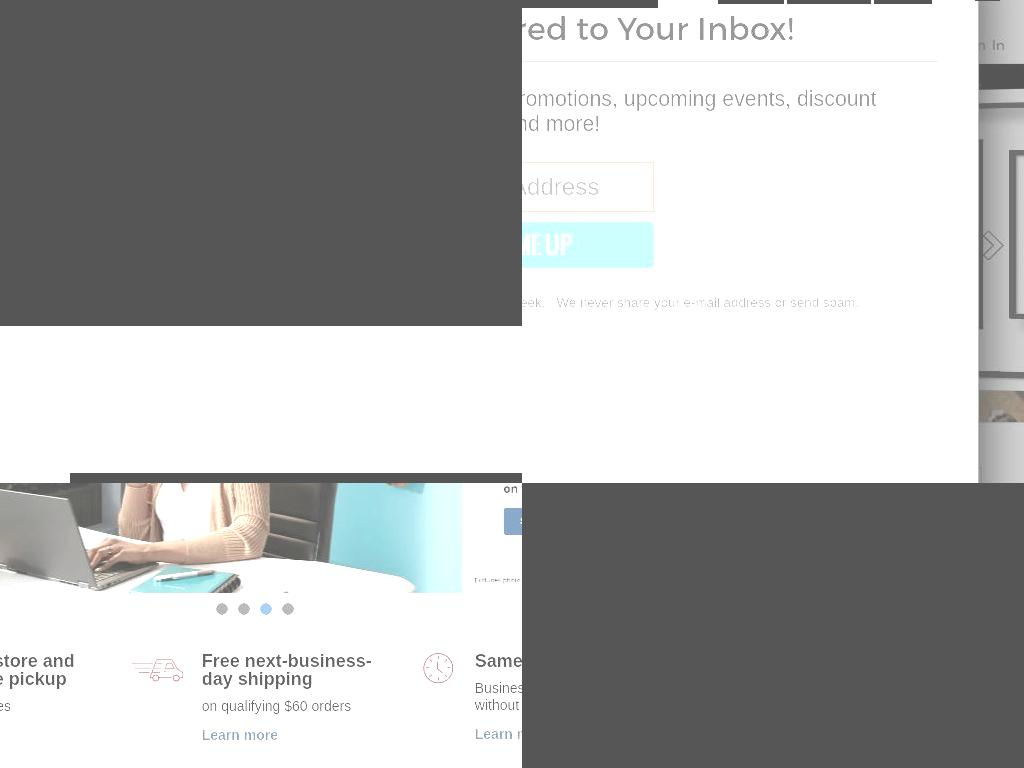button: (522, 64, 1024, 423), (522, 483, 1024, 768), (0, 483, 522, 594), (419, 243, 522, 291), (776, 29, 885, 65), (540, 29, 642, 65), (942, 29, 1005, 65), (201, 721, 278, 750), (885, 29, 942, 65), (871, 467, 982, 483), (601, 467, 694, 483), (702, 467, 789, 483), (474, 720, 522, 749), (522, 467, 593, 483), (797, 467, 863, 483), (522, 29, 540, 65), (216, 603, 228, 615), (238, 603, 250, 615), (260, 603, 272, 615), (282, 603, 294, 615)
field: (427, 145, 522, 197)
image: (0, 0, 522, 326), (0, 483, 522, 594), (522, 361, 738, 483), (522, 363, 734, 483), (809, 152, 948, 302), (811, 151, 949, 301), (522, 150, 639, 311), (561, 0, 756, 95), (522, 149, 633, 310), (558, 0, 754, 91), (670, 166, 751, 294), (670, 167, 751, 294), (784, 377, 865, 483), (785, 380, 866, 483), (929, 380, 1010, 483), (932, 383, 1013, 483), (809, 0, 890, 88), (811, 0, 892, 84), (955, 0, 1024, 80), (959, 0, 1024, 76), (522, 349, 757, 360), (546, 113, 777, 124), (130, 652, 184, 698), (403, 652, 457, 698), (797, 142, 809, 327), (626, 137, 637, 333), (797, 139, 970, 151), (979, 139, 990, 324), (1005, 150, 1017, 313), (772, 154, 784, 316), (797, 325, 970, 336), (658, 156, 669, 318), (522, 321, 656, 333), (546, 0, 558, 125), (522, 137, 656, 148), (748, 354, 759, 483), (772, 365, 784, 483), (797, 109, 913, 121), (658, 312, 773, 324), (772, 0, 784, 114), (797, 0, 809, 112), (772, 365, 888, 376), (658, 154, 773, 165), (891, 368, 902, 483), (917, 368, 928, 483), (523, 0, 534, 113), (917, 368, 1024, 379), (917, 0, 928, 106), (943, 0, 954, 105), (976, 228, 1006, 259), (1017, 161, 1024, 289), (943, 106, 1024, 117), (1022, 160, 1024, 288), (1005, 148, 1024, 159), (1005, 317, 1024, 328)
text: (522, 483, 1024, 768), (201, 652, 374, 698), (0, 652, 101, 698), (201, 698, 374, 721), (474, 680, 522, 720), (474, 652, 522, 680), (494, 260, 522, 274)
